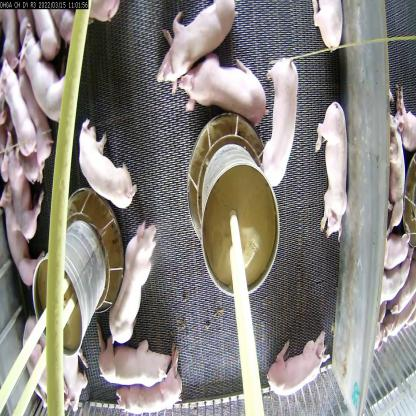Pig: (151, 0, 250, 82), (105, 212, 158, 354), (182, 54, 274, 134), (73, 125, 139, 213), (20, 22, 81, 116), (101, 359, 197, 415), (317, 99, 353, 247), (262, 338, 329, 403), (264, 62, 296, 193), (0, 193, 41, 289), (0, 146, 41, 237), (2, 50, 37, 149), (90, 337, 158, 383), (15, 316, 49, 405)
